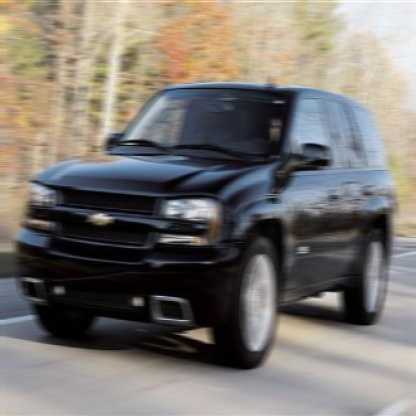Vehicle: (15, 74, 397, 372)
